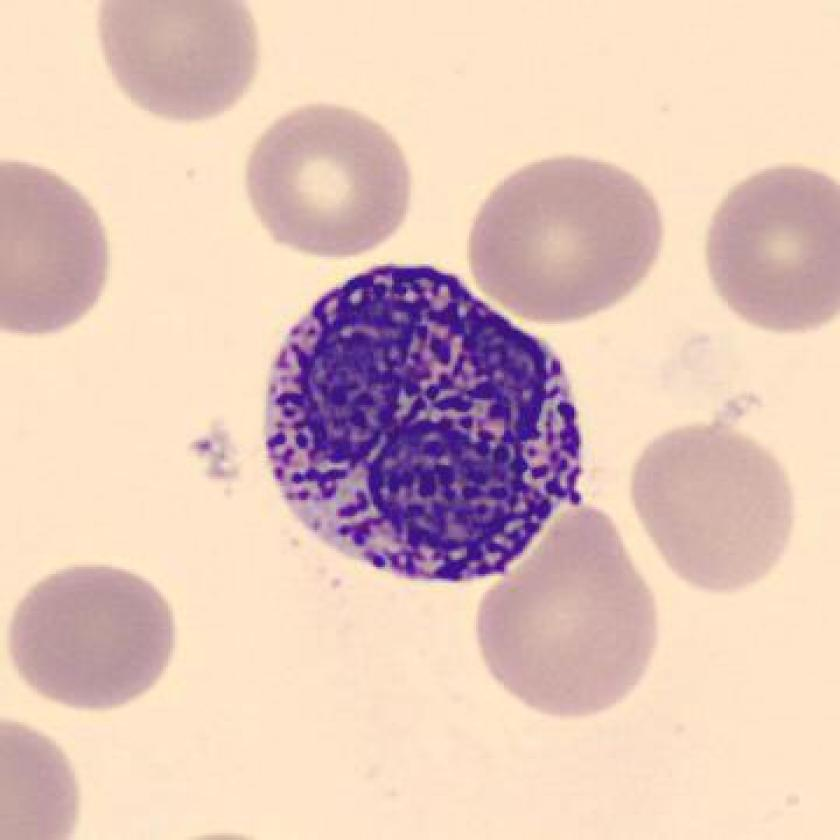basophil: (251, 258, 594, 591)
